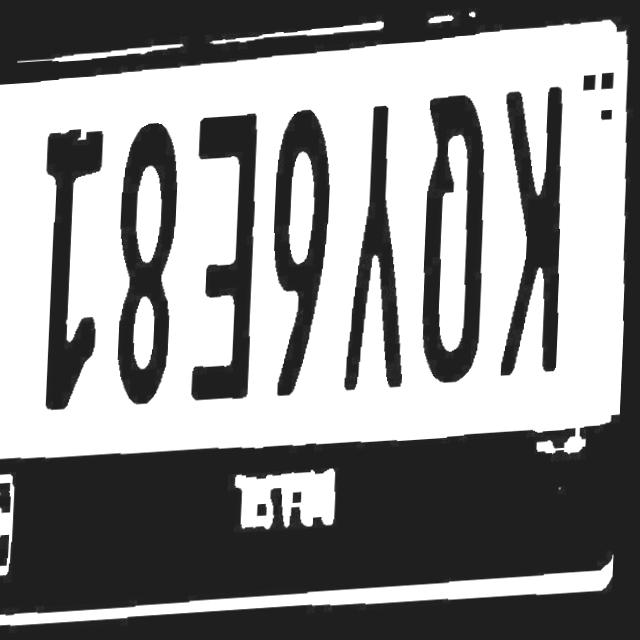1: (30, 133, 112, 415)
6: (264, 108, 338, 407)
8: (110, 114, 181, 422)
e: (179, 113, 266, 412)
k: (482, 88, 574, 395)
q: (408, 90, 494, 394)
y: (341, 95, 413, 413)
